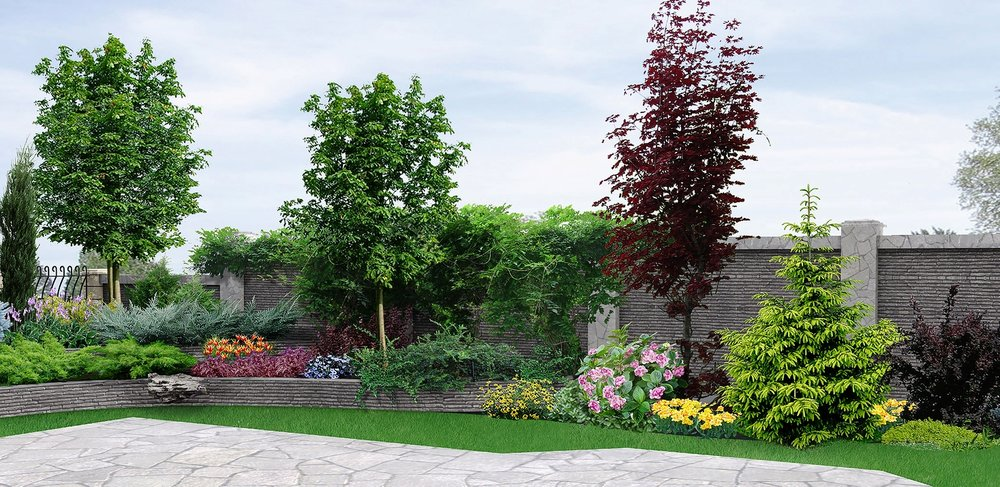bush: (723, 193, 901, 446)
tree: (588, 1, 756, 389), (275, 70, 475, 367), (23, 35, 212, 310)
